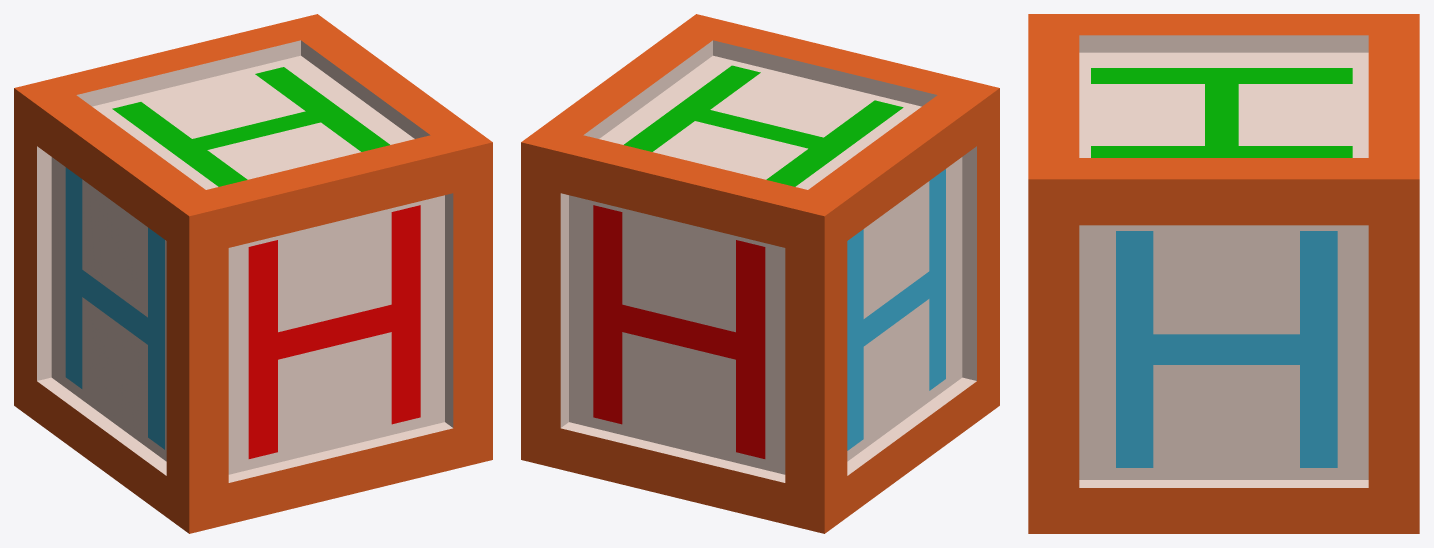
File: Prop_KidsCube_H.fbx
3 renders of one model, left to right at view 1: azimuth 30°, elevation 25°; view 2: azimuth 150°, elevation 25°; view 3: azimuth 270°, elevation 25°, orthographic. The views are drawn at different scales.
Parts seen in each view (by area): view 1: Prop_KidsCube_H; view 2: Prop_KidsCube_H; view 3: Prop_KidsCube_H.
Part boxes in pixels (<box>): Prop_KidsCube_H: <box>14,14,492,533</box>; Prop_KidsCube_H: <box>521,14,999,533</box>; Prop_KidsCube_H: <box>1028,14,1419,533</box>.
Size of the model in its own units: 20.93 by 20.93 by 20.93.
